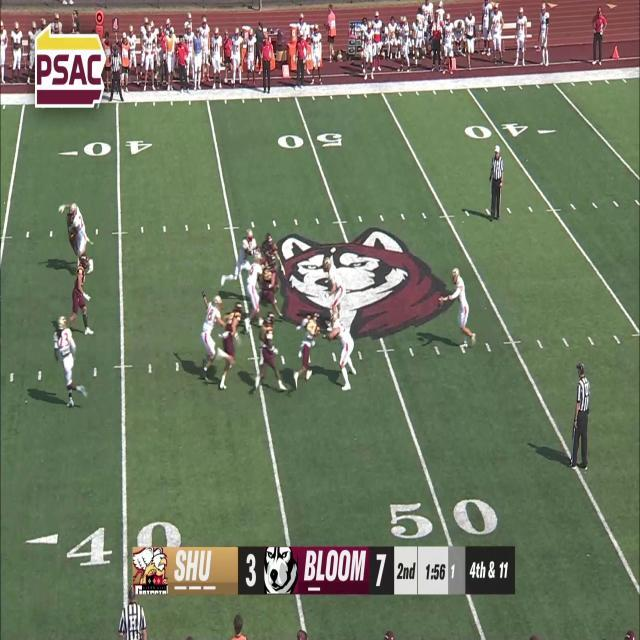football: (438, 296, 443, 312)
